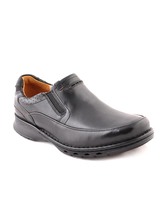shoes: (9, 71, 159, 160)
